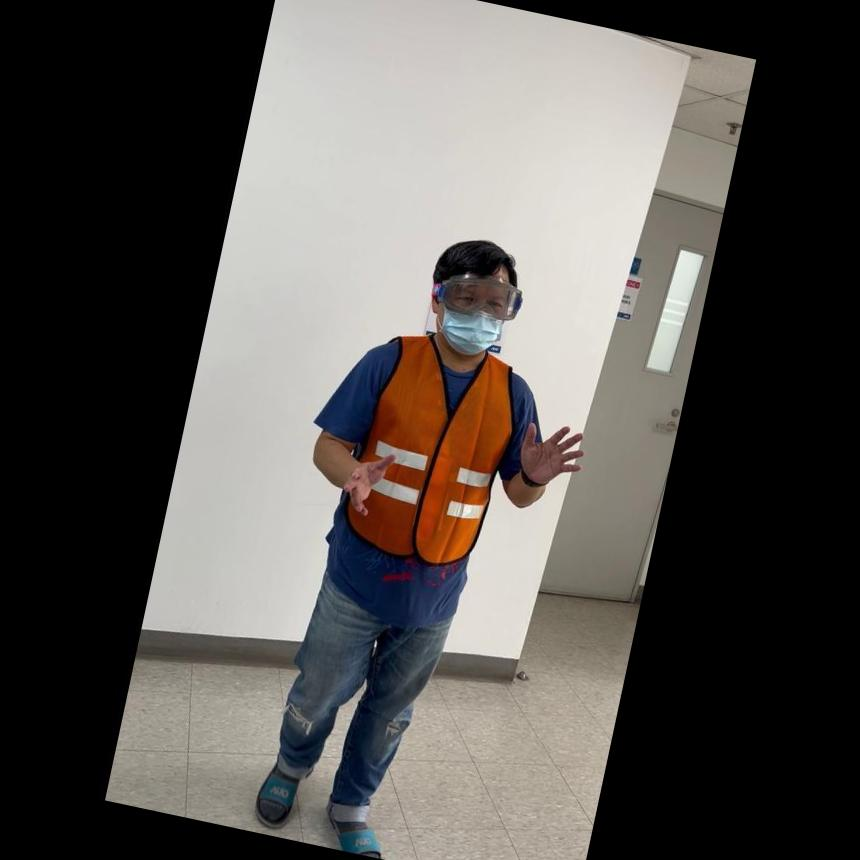No-gloves: (512, 408, 593, 492), (332, 434, 400, 526)
